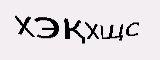С: (125, 21, 141, 38)
Х: (13, 15, 35, 39), (83, 21, 100, 41)
Щ: (100, 23, 125, 42)
Э: (34, 16, 59, 40)
Қ: (64, 18, 86, 45)
